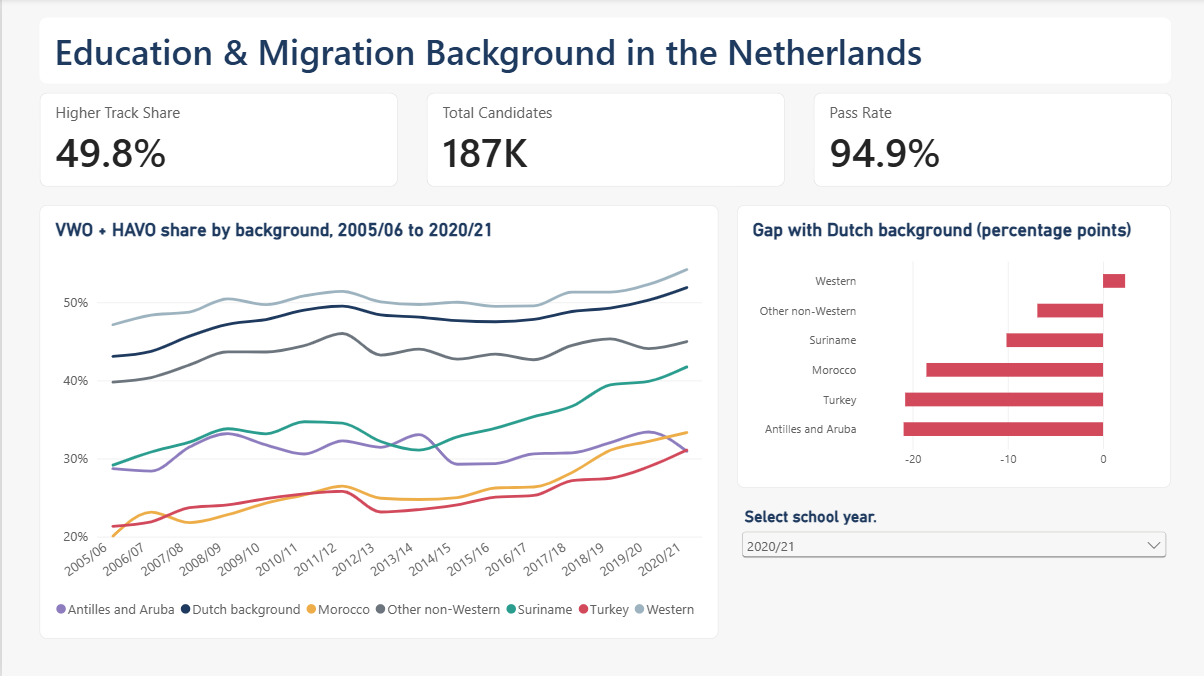

The dashboard page shown, as its layout file describes it:
{"tool":"powerbi","page":{"name":"Page 1","canvas":[1280,720],"ordinal":0},"visuals":[{"type":"lineChart","title":"VWO + HAVO share by background, 2005/06 to 2020/21","fields":{"Category":["exam_results_clean.school_year"],"Series":["exam_results_clean.background"],"Y":["exam_results_clean.Higher Track Share"]},"box":[40,220,720,460],"z":0},{"type":"clusteredBarChart","title":"Gap with Dutch background (percentage points)","fields":{"Category":["exam_results_clean.background"],"Y":["exam_results_clean.Gap vs Dutch (pp)"]},"box":[780,220,460,300],"z":1000},{"type":"slicer","fields":{"Values":["exam_results_clean.school_year"]},"box":[780,540,460,140],"z":2000},{"type":"cardVisual","fields":{"Data":["exam_results_clean.Higher Track Share"]},"box":[40,100,380,100],"z":3000},{"type":"cardVisual","fields":{"Data":["exam_results_clean.Total Candidates"]},"box":[450,100,380,100],"z":4000},{"type":"cardVisual","fields":{"Data":["exam_results_clean.Pass Rate"]},"box":[860,100,380,100],"z":5000},{"type":"cardVisual","fields":{"Data":["exam_results_clean.Dashboard Title"]},"box":[40,20,1200,70],"z":5001}]}

Visuals, with their boxes in screenshot pixels (x1, y1, x2, y2), scaled from the page's 1280x720 canvas onto the 1204x676 screenshot:
"VWO + HAVO share by background, 2005/06 to 2020/21" lineChart: l=38, t=207, r=715, b=638
"Gap with Dutch background (percentage points)" clusteredBarChart: l=734, t=207, r=1166, b=488
slicer - exam_results_clean.school_year: l=734, t=507, r=1166, b=638
cardVisual - exam_results_clean.Higher Track Share: l=38, t=94, r=395, b=188
cardVisual - exam_results_clean.Total Candidates: l=423, t=94, r=781, b=188
cardVisual - exam_results_clean.Pass Rate: l=809, t=94, r=1166, b=188
cardVisual - exam_results_clean.Dashboard Title: l=38, t=19, r=1166, b=84
